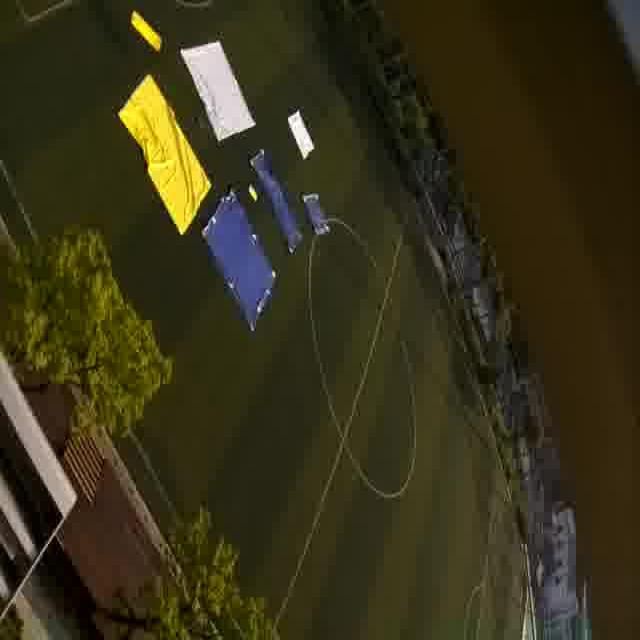danger: (204, 210, 272, 310), (262, 170, 292, 239), (302, 191, 336, 238)
safety: (190, 39, 254, 141), (284, 108, 316, 164)
warning: (136, 98, 190, 215), (128, 9, 164, 55)
